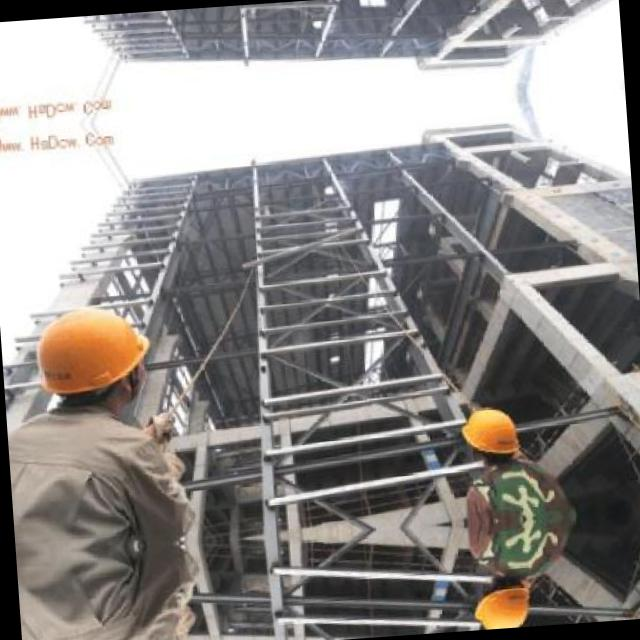helmet: (21, 288, 166, 421), (457, 398, 526, 468), (469, 570, 539, 628)
